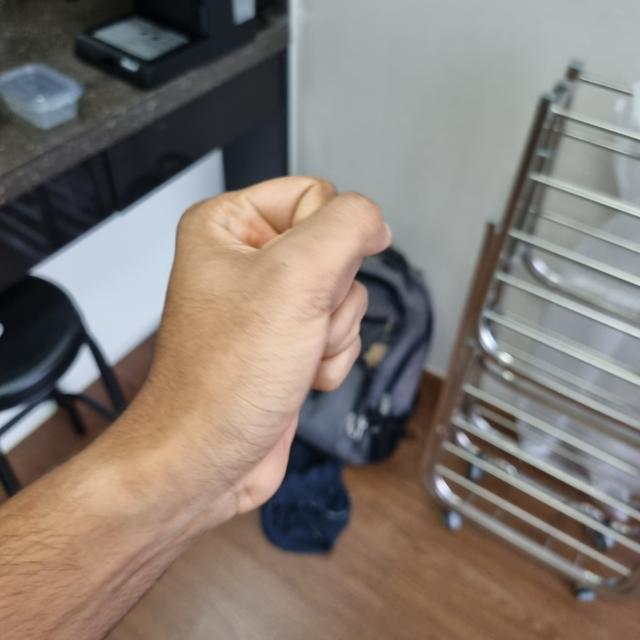Rock: (143, 175, 390, 512)
